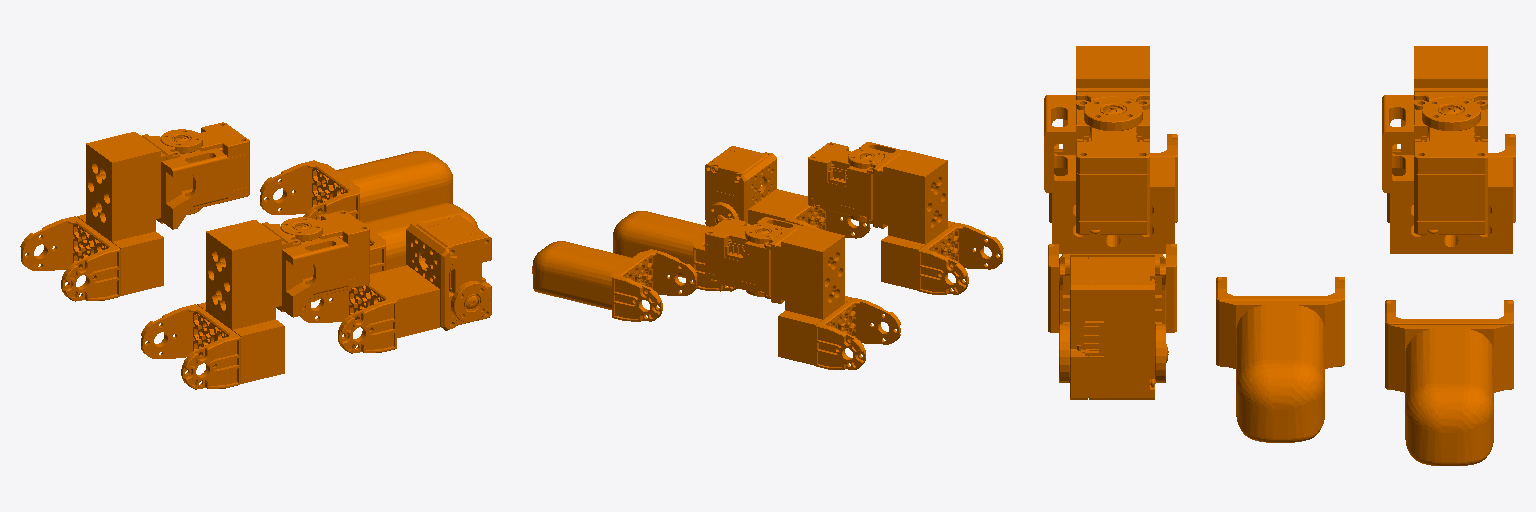
The robot description file, URDF, robot "onshape":
<robot name="onshape">
  <link name="palm_lower">
    <inertial>
      <origin xyz="0.0 0.0 0.0" rpy="0.0 -0.0 0.0"/>
      <mass value="0.237"/>
      <inertia ixx="0.000354094" ixy="-1.193e-06" ixz="-2.445e-06" iyy="0.000260915" iyz="-2.905e-06" izz="0.000529257"/>
    </inertial>
    <visual>
      <geometry>
        <mesh filename="../assets/leap/leap_hand/palm_lower.stl"/>
      </geometry>
      <origin xyz="-0.020095249652862544 0.025757756134899473 -0.034722403578460216" rpy="0.0 -0.0 0.0"/>
      <material name="palm_lower_material">
        <color rgba="0.6039215686274509 0.14901960784313725 0.14901960784313725 1.0"/>
      </material>
    </visual>
    <collision>
      <geometry>
        <mesh filename="../assets/leap/leap_hand/palm_lower.stl"/>
      </geometry>
      <origin xyz="-0.020095249652862544 0.025757756134899473 -0.034722403578460216" rpy="0.0 -0.0 0.0"/>
    </collision>
  </link>
  <link name="mcp_joint_long">
    <inertial>
      <origin xyz="0.0 0.0 0.0" rpy="0.0 -0.0 0.0"/>
      <mass value="0.044"/>
      <inertia ixx="1.1499e-05" ixy="3.049e-06" ixz="1.21e-07" iyy="7.796e-06" iyz="1.12e-07" izz="1.4759e-05"/>
    </inertial>
    <visual>
      <geometry>
        <mesh filename="custom_models/mcp_joint_long.stl"/>
      </geometry>
      <origin xyz="0.008406902261174496 0.0077662438597169954 0.014657354985032912" rpy="1.6375789613221e-15 -1.021047330249102e-30 1.7177968783327987e-31"/>
      <material name="mcp_joint_material">
        <color rgba="0.878 0.467 0.0 1.0"/>
      </material>
    </visual>
    <collision>
      <geometry>
        <mesh filename="custom_models/mcp_joint_long.stl"/>
      </geometry>
      <origin xyz="0.008406902261174496 0.0077662438597169954 0.014657354985032912" rpy="1.6375789613221e-15 -1.021047330249102e-30 1.7177968783327987e-31"/>
    </collision>
  </link>
  <link name="pip">
    <inertial>
      <origin xyz="0.0 0.0 0.0" rpy="0.0 -0.0 0.0"/>
      <mass value="0.032"/>
      <inertia ixx="4.798e-06" ixy="1.2e-08" ixz="4e-09" iyy="2.862e-06" iyz="1.1e-08" izz="4.234e-06"/>
    </inertial>
    <visual>
      <geometry>
        <mesh filename="../assets/leap/leap_hand/pip.stl"/>
      </geometry>
      <origin xyz="0.009643363092271328 0.0002999999999999895 0.0007840340104173765" rpy="-1.5707963267948966 -1.5707963267948963 0.0"/>
      <material name="pip_material">
        <color rgba="0.7490196078431373 0.7490196078431373 0.7490196078431373 1.0"/>
      </material>
    </visual>
    <collision>
      <geometry>
        <mesh filename="../assets/leap/leap_hand/pip.stl"/>
      </geometry>
      <origin xyz="0.009643363092271328 0.0002999999999999895 0.0007840340104173765" rpy="-1.5707963267948966 -1.5707963267948963 0.0"/>
    </collision>
  </link>
  <link name="dip">
    <inertial>
      <origin xyz="0.0 0.0 0.0" rpy="0.0 -0.0 0.0"/>
      <mass value="0.037"/>
      <inertia ixx="5.542e-06" ixy="-6.07e-07" ixz="-1.7e-08" iyy="5.727e-06" iyz="-2.3e-08" izz="6.682e-06"/>
    </inertial>
    <visual>
      <geometry>
        <mesh filename="../assets/leap/leap_hand/dip.stl"/>
      </geometry>
      <origin xyz="0.021133352895225003 -0.00843211914670488 0.00978508816209524" rpy="-3.141592653589793 4.507511124216441e-32 4.439548105392361e-32"/>
      <material name="dip_material">
        <color rgba="0.8666666666666667 0.8666666666666667 0.050980392156862744 1.0"/>
      </material>
    </visual>
    <collision>
      <geometry>
        <mesh filename="../assets/leap/leap_hand/dip.stl"/>
      </geometry>
      <origin xyz="0.021133352895225003 -0.00843211914670488 0.00978508816209524" rpy="-3.141592653589793 4.507511124216441e-32 4.439548105392361e-32"/>
    </collision>
  </link>
  <link name="fingertip_long">
    <inertial>
      <origin xyz="0.0 0.0 0.0" rpy="0.0 -0.0 0.0"/>
      <mass value="0.016"/>
      <inertia ixx="3.368e-06" ixy="1.15e-07" ixz="0.0" iyy="1.556e-06" iyz="0.0" izz="2.863e-06"/>
    </inertial>
    <visual>
      <geometry>
        <mesh filename="custom_models/fingertip_long.stl"/>
      </geometry>
      <origin xyz="0.013286424108533503 -0.006114238386541987 0.014499999999999498" rpy="3.141592653589793 1.1993117970061735e-33 4.439548105392361e-32"/>
      <material name="fingertip_material">
        <color rgba="0.878 0.467 0.0 1.0"/>
      </material>
    </visual>
    <collision>
      <geometry>
        <mesh filename="custom_models/fingertip_long.stl"/>
      </geometry>
      <origin xyz="0.013286424108533503 -0.006114238386541987 0.014499999999999498" rpy="3.141592653589793 1.1993117970061735e-33 4.439548105392361e-32"/>
    </collision>
  </link>
  <link name="pip_4">
    <inertial>
      <origin xyz="0.0 0.0 0.0" rpy="0.0 -0.0 0.0"/>
      <mass value="0.032"/>
      <inertia ixx="4.798e-06" ixy="1.2e-08" ixz="4e-09" iyy="2.862e-06" iyz="1.1e-08" izz="4.234e-06"/>
    </inertial>
    <visual>
      <geometry>
        <mesh filename="../assets/leap/leap_hand/pip.stl"/>
      </geometry>
      <origin xyz="-0.005356636907728671 0.0002999999999999999 0.0007840340104173782" rpy="-1.5707963267948966 -1.5707963267948963 0.0"/>
      <material name="pip_material">
        <color rgba="0.7490196078431373 0.7490196078431373 0.7490196078431373 1.0"/>
      </material>
    </visual>
    <collision>
      <geometry>
        <mesh filename="../assets/leap/leap_hand/pip.stl"/>
      </geometry>
      <origin xyz="-0.005356636907728671 0.0002999999999999999 0.0007840340104173782" rpy="-1.5707963267948966 -1.5707963267948963 0.0"/>
    </collision>
  </link>
  <link name="thumb_pip">
    <inertial>
      <origin xyz="0.0 0.0 0.0" rpy="0.0 -0.0 0.0"/>
      <mass value="0.003"/>
      <inertia ixx="5.93e-07" ixy="0.0" ixz="0.0" iyy="5.49e-07" iyz="0.0" izz="2.24e-07"/>
    </inertial>
    <visual>
      <geometry>
        <mesh filename="../assets/leap/leap_hand/thumb_pip.stl"/>
      </geometry>
      <origin xyz="0.011961920770611187 -5.30825383648903e-16 -0.0158526489566642" rpy="1.5707963267948966 1.6050198443300153e-46 -3.9204996250525193e-59"/>
      <material name="thumb_pip_material">
        <color rgba="0.8666666666666667 0.8666666666666667 0.050980392156862744 1.0"/>
      </material>
    </visual>
    <collision>
      <geometry>
        <mesh filename="../assets/leap/leap_hand/thumb_pip.stl"/>
      </geometry>
      <origin xyz="0.011961920770611187 -5.30825383648903e-16 -0.0158526489566642" rpy="1.5707963267948966 1.6050198443300153e-46 -3.9204996250525193e-59"/>
    </collision>
  </link>
  <link name="thumb_dip">
    <inertial>
      <origin xyz="0.0 0.0 0.0" rpy="0.0 -0.0 0.0"/>
      <mass value="0.038"/>
      <inertia ixx="8.474e-06" ixy="2.41e-07" ixz="2.6e-08" iyy="3.841e-06" iyz="2.5e-08" izz="7.679e-06"/>
    </inertial>
    <visual>
      <geometry>
        <mesh filename="../assets/leap/leap_hand/thumb_dip.stl"/>
      </geometry>
      <origin xyz="0.043968715707239175 0.0579529529737092 -0.008628676449369476" rpy="1.94289029309401e-16 3.27515792264422e-15 1.112375852965736e-46"/>
      <material name="thumb_dip_material">
        <color rgba="0.8666666666666667 0.8666666666666667 0.050980392156862744 1.0"/>
      </material>
    </visual>
    <collision>
      <geometry>
        <mesh filename="../assets/leap/leap_hand/thumb_dip.stl"/>
      </geometry>
      <origin xyz="0.043968715707239175 0.0579529529737092 -0.008628676449369476" rpy="1.94289029309401e-16 3.27515792264422e-15 1.112375852965736e-46"/>
    </collision>
  </link>
  <link name="thumb_fingertip">
    <inertial>
      <origin xyz="0.0 0.0 0.0" rpy="0.0 -0.0 0.0"/>
      <mass value="0.049"/>
      <inertia ixx="2.0372e-05" ixy="-4.89e-07" ixz="-3e-08" iyy="4.336e-06" iyz="-9.7e-08" izz="1.9845e-05"/>
    </inertial>
    <visual>
      <geometry>
        <mesh filename="../assets/leap/leap_hand/thumb_fingertip.stl"/>
      </geometry>
      <origin xyz="0.06255953846266739 0.07845968291139699 0.048992911807332215" rpy="4.379057701015637e-47 -3.33066907387547e-16 1.2042408677791935e-46"/>
      <material name="thumb_fingertip_material">
        <color rgba="0.6039215686274509 0.14901960784313725 0.14901960784313725 1.0"/>
      </material>
    </visual>
    <collision>
      <geometry>
        <mesh filename="../assets/leap/leap_hand/thumb_fingertip.stl"/>
      </geometry>
      <origin xyz="0.06255953846266739 0.07845968291139699 0.048992911807332215" rpy="4.379057701015637e-47 -3.33066907387547e-16 1.2042408677791935e-46"/>
    </collision>
  </link>
  <link name="mcp_joint_2">
    <inertial>
      <origin xyz="0.0 0.0 0.0" rpy="0.0 -0.0 0.0"/>
      <mass value="0.044"/>
      <inertia ixx="1.1499e-05" ixy="3.049e-06" ixz="1.21e-07" iyy="7.796e-06" iyz="1.12e-07" izz="1.4759e-05"/>
    </inertial>
    <visual>
      <geometry>
        <mesh filename="../assets/leap/leap_hand/mcp_joint.stl"/>
      </geometry>
      <origin xyz="0.008406902261174496 0.0077662438597169954 0.014657354985032914" rpy="1.6375789613221e-15 -1.0076465469034e-30 2.1209300131419907e-61"/>
      <material name="mcp_joint_material">
        <color rgba="0.8666666666666667 0.8666666666666667 0.050980392156862744 1.0"/>
      </material>
    </visual>
    <collision>
      <geometry>
        <mesh filename="../assets/leap/leap_hand/mcp_joint.stl"/>
      </geometry>
      <origin xyz="0.008406902261174496 0.0077662438597169954 0.014657354985032914" rpy="1.6375789613221e-15 -1.0076465469034e-30 2.1209300131419907e-61"/>
    </collision>
  </link>
  <link name="pip_2">
    <inertial>
      <origin xyz="0.0 0.0 0.0" rpy="0.0 -0.0 0.0"/>
      <mass value="0.032"/>
      <inertia ixx="4.798e-06" ixy="1.2e-08" ixz="4e-09" iyy="2.862e-06" iyz="1.1e-08" izz="4.234e-06"/>
    </inertial>
    <visual>
      <geometry>
        <mesh filename="../assets/leap/leap_hand/pip.stl"/>
      </geometry>
      <origin xyz="0.009643363092271328 0.0002999999999999947 0.0007840340104173765" rpy="-1.5707963267948966 -1.5707963267948963 0.0"/>
      <material name="pip_material">
        <color rgba="0.7490196078431373 0.7490196078431373 0.7490196078431373 1.0"/>
      </material>
    </visual>
    <collision>
      <geometry>
        <mesh filename="../assets/leap/leap_hand/pip.stl"/>
      </geometry>
      <origin xyz="0.009643363092271328 0.0002999999999999947 0.0007840340104173765" rpy="-1.5707963267948966 -1.5707963267948963 0.0"/>
    </collision>
  </link>
  <link name="dip_2">
    <inertial>
      <origin xyz="0.0 0.0 0.0" rpy="0.0 -0.0 0.0"/>
      <mass value="0.037"/>
      <inertia ixx="5.542e-06" ixy="-6.07e-07" ixz="-1.7e-08" iyy="5.727e-06" iyz="-2.3e-08" izz="6.682e-06"/>
    </inertial>
    <visual>
      <geometry>
        <mesh filename="../assets/leap/leap_hand/dip.stl"/>
      </geometry>
      <origin xyz="0.021133352895225003 -0.008432119146704865 0.009785088162095237" rpy="-3.141592653589793 2.1146933785271956e-32 1.4408183216511869e-31"/>
      <material name="dip_material">
        <color rgba="0.8666666666666667 0.8666666666666667 0.050980392156862744 1.0"/>
      </material>
    </visual>
    <collision>
      <geometry>
        <mesh filename="../assets/leap/leap_hand/dip.stl"/>
      </geometry>
      <origin xyz="0.021133352895225003 -0.008432119146704865 0.009785088162095237" rpy="-3.141592653589793 2.1146933785271956e-32 1.4408183216511869e-31"/>
    </collision>
  </link>
  <link name="fingertip_2_long">
    <inertial>
      <origin xyz="0.0 0.0 0.0" rpy="0.0 -0.0 0.0"/>
      <mass value="0.016"/>
      <inertia ixx="3.368e-06" ixy="1.15e-07" ixz="0.0" iyy="1.556e-06" iyz="0.0" izz="2.863e-06"/>
    </inertial>
    <visual>
      <geometry>
        <mesh filename="custom_models/fingertip_long.stl"/>
      </geometry>
      <origin xyz="0.013286424108533496 -0.006114238386542001 0.014499999999999496" rpy="3.141592653589793 -4.317959788283594e-33 1.4408183216511869e-31"/>
      <material name="fingertip_material">
        <color rgba="0.878 0.467 0.0 1.0"/>
      </material>
    </visual>
    <collision>
      <geometry>
        <mesh filename="custom_models/fingertip_long.stl"/>
      </geometry>
      <origin xyz="0.013286424108533496 -0.006114238386542001 0.014499999999999496" rpy="3.141592653589793 -4.317959788283594e-33 1.4408183216511869e-31"/>
    </collision>
  </link>
  <link name="mcp_joint_3_long">
    <inertial>
      <origin xyz="0.0 0.0 0.0" rpy="0.0 -0.0 0.0"/>
      <mass value="0.044"/>
      <inertia ixx="1.1499e-05" ixy="3.049e-06" ixz="1.21e-07" iyy="7.796e-06" iyz="1.12e-07" izz="1.4759e-05"/>
    </inertial>
    <visual>
      <geometry>
        <mesh filename="custom_models/mcp_joint_long.stl"/>
      </geometry>
      <origin xyz="0.0084069022611745 0.007766243859716996 0.014657354985032914" rpy="1.6375789613221e-15 -1.0059504988632627e-30 5.729641584552035e-32"/>
      <material name="mcp_joint_material">
        <color rgba="0.878 0.467 0.0 1.0"/>
      </material>
    </visual>
    <collision>
      <geometry>
        <mesh filename="custom_models/mcp_joint_long.stl"/>
      </geometry>
      <origin xyz="0.0084069022611745 0.007766243859716996 0.014657354985032914" rpy="1.6375789613221e-15 -1.0059504988632627e-30 5.729641584552035e-32"/>
    </collision>
  </link>
  <link name="pip_3">
    <inertial>
      <origin xyz="0.0 0.0 0.0" rpy="0.0 -0.0 0.0"/>
      <mass value="0.032"/>
      <inertia ixx="4.798e-06" ixy="1.2e-08" ixz="4e-09" iyy="2.862e-06" iyz="1.1e-08" izz="4.234e-06"/>
    </inertial>
    <visual>
      <geometry>
        <mesh filename="../assets/leap/leap_hand/pip.stl"/>
      </geometry>
      <origin xyz="0.009643363092271331 0.00029999999999998084 0.0007840340104173765" rpy="-1.5707963267948966 -1.5707963267948963 0.0"/>
      <material name="pip_material">
        <color rgba="0.7490196078431373 0.7490196078431373 0.7490196078431373 1.0"/>
      </material>
    </visual>
    <collision>
      <geometry>
        <mesh filename="../assets/leap/leap_hand/pip.stl"/>
      </geometry>
      <origin xyz="0.009643363092271331 0.00029999999999998084 0.0007840340104173765" rpy="-1.5707963267948966 -1.5707963267948963 0.0"/>
    </collision>
  </link>
  <link name="dip_3_long">
    <inertial>
      <origin xyz="0.0 0.0 0.0" rpy="0.0 -0.0 0.0"/>
      <mass value="0.037"/>
      <inertia ixx="5.542e-06" ixy="-6.07e-07" ixz="-1.7e-08" iyy="5.727e-06" iyz="-2.3e-08" izz="6.682e-06"/>
    </inertial>
    <visual>
      <geometry>
        <mesh filename="custom_models/dip_long.stl"/>
      </geometry>
      <origin xyz="0.021133352895225006 -0.008432119146704865 0.009785088162095237" rpy="-3.141592653589793 -1.4095651113919093e-33 1.5565411607615035e-32"/>
      <material name="dip_material">
        <color rgba="0.878 0.467 0.0 1.0"/>
      </material>
    </visual>
    <collision>
      <geometry>
        <mesh filename="custom_models/dip_long.stl"/>
      </geometry>
      <origin xyz="0.021133352895225006 -0.008432119146704865 0.009785088162095237" rpy="-3.141592653589793 -1.4095651113919093e-33 1.5565411607615035e-32"/>
    </collision>
  </link>
  <link name="fingertip_3">
    <inertial>
      <origin xyz="0.0 0.0 0.0" rpy="0.0 -0.0 0.0"/>
      <mass value="0.016"/>
      <inertia ixx="3.368e-06" ixy="1.15e-07" ixz="0.0" iyy="1.556e-06" iyz="0.0" izz="2.863e-06"/>
    </inertial>
    <visual>
      <geometry>
        <mesh filename="../assets/leap/leap_hand/fingertip.stl"/>
      </geometry>
      <origin xyz="0.013286424108533501 -0.006114238386541987 0.0144999999999995" rpy="3.141592653589793 8.61707169505754e-33 1.5565411607615035e-32"/>
      <material name="fingertip_material">
        <color rgba="0.8666666666666667 0.8666666666666667 0.050980392156862744 1.0"/>
      </material>
    </visual>
    <collision>
      <geometry>
        <mesh filename="../assets/leap/leap_hand/fingertip.stl"/>
      </geometry>
      <origin xyz="0.013286424108533501 -0.006114238386541987 0.0144999999999995" rpy="3.141592653589793 8.61707169505754e-33 1.5565411607615035e-32"/>
    </collision>
  </link>
  <joint name="1" type="revolute">
    <parent link="palm_lower"/>
    <child link="mcp_joint_long"/>
    <origin xyz="-0.007095249652862546 0.023057756134899472 -0.01872240357846022" rpy="1.570796326794895 1.5707963267948946 0.0"/>
    <axis xyz="0.0 0.0 -1.0"/>
    <limit effort="0.95" velocity="8.48" lower="-0.314" upper="2.23"/>
  </joint>
  <joint name="0" type="revolute">
    <parent link="mcp_joint_long"/>
    <child link="pip"/>
    <origin xyz="-0.012200000000000007713 0.053099999999999994982 0.014500000000000000736" rpy="-1.5707963267948966 -1.0065212660796337e-15 1.5707963267948943"/>
    <axis xyz="0.0 0.0 -1.0"/>
    <limit effort="0.95" velocity="8.48" lower="-1.047" upper="1.047"/>
  </joint>
  <joint name="2" type="revolute">
    <parent link="pip"/>
    <child link="dip"/>
    <origin xyz="0.014999999999999968 0.014299999999999905 -0.012999999999999824" rpy="1.570796326794896 -1.5707963267948963 0.0"/>
    <axis xyz="0.0 0.0 -1.0"/>
    <limit effort="0.95" velocity="8.48" lower="-0.506" upper="1.885"/>
  </joint>
  <joint name="3" type="revolute">
    <parent link="dip"/>
    <child link="fingertip_long"/>
    <origin xyz="-4.088058249557269e-09 -0.03610000421036737 0.0002000000000000786" rpy="4.5935029425113685e-17 -2.8730071914463795e-16 4.439548105392361e-32"/>
    <axis xyz="0.0 0.0 -1.0"/>
    <limit effort="0.95" velocity="8.48" lower="-0.366" upper="2.042"/>
  </joint>
  <joint name="12" type="revolute">
    <parent link="palm_lower"/>
    <child link="pip_4"/>
    <origin xyz="-0.06939524965286253 -0.0012422438651005258 -0.021622403578460216" rpy="-8.238176646493942e-17 1.5707963267948957 0.0"/>
    <axis xyz="0.0 0.0 -1.0"/>
    <limit effort="0.95" velocity="8.48" lower="-0.349" upper="2.094"/>
  </joint>
  <joint name="13" type="revolute">
    <parent link="pip_4"/>
    <child link="thumb_pip"/>
    <origin xyz="-2.7755575615628914e-17 0.014300000000000005 -0.013000000000000012" rpy="1.570796326794896 -1.5707963267948963 0.0"/>
    <axis xyz="0.0 0.0 -1.0"/>
    <limit effort="0.95" velocity="8.48" lower="-0.47" upper="2.443"/>
  </joint>
  <joint name="14" type="revolute">
    <parent link="thumb_pip"/>
    <child link="thumb_dip"/>
    <origin xyz="0.0 0.014499999999999966 -0.017000000000000053" rpy="-1.5707963267948966 1.6050198443300131e-46 -1.9721522630516625e-31"/>
    <axis xyz="0.0 0.0 -1.0"/>
    <limit effort="0.95" velocity="8.48" lower="-1.2" upper="1.9"/>
  </joint>
  <joint name="15" type="revolute">
    <parent link="thumb_dip"/>
    <child link="thumb_fingertip"/>
    <origin xyz="-1.249000902703301e-16 0.046599999999999864 0.0001999999999999771" rpy="1.506395849149178e-44 5.423418723393526e-31 3.141592653589793"/>
    <axis xyz="0.0 0.0 -1.0"/>
    <limit effort="0.95" velocity="8.48" lower="-1.34" upper="1.88"/>
  </joint>
  <joint name="5" type="revolute">
    <parent link="palm_lower"/>
    <child link="mcp_joint_2"/>
    <origin xyz="-0.007095249652862546 -0.022392243865100525 -0.01872240357846022" rpy="1.570796326794895 1.5707963267948946 0.0"/>
    <axis xyz="0.0 0.0 -1.0"/>
    <limit effort="0.95" velocity="8.48" lower="-0.314" upper="2.23"/>
  </joint>
  <joint name="4" type="revolute">
    <parent link="mcp_joint_2"/>
    <child link="pip_2"/>
    <origin xyz="-0.012200000000000008 0.038099999999999995 0.0145" rpy="-1.5707963267948966 -1.0065212660796337e-15 1.5707963267948943"/>
    <axis xyz="0.0 0.0 -1.0"/>
    <limit effort="0.95" velocity="8.48" lower="-1.047" upper="1.047"/>
  </joint>
  <joint name="6" type="revolute">
    <parent link="pip_2"/>
    <child link="dip_2"/>
    <origin xyz="0.014999999999999968 0.014299999999999905 -0.012999999999999824" rpy="1.570796326794896 -1.5707963267948963 0.0"/>
    <axis xyz="0.0 0.0 -1.0"/>
    <limit effort="0.95" velocity="8.48" lower="-0.506" upper="1.885"/>
  </joint>
  <joint name="7" type="revolute">
    <parent link="dip_2"/>
    <child link="fingertip_2_long"/>
    <origin xyz="-4.088058249557269e-09 -0.03610000421036737 0.0002000000000000786" rpy="4.5935029425113685e-17 -2.8730071914463795e-16 4.439548105392361e-32"/>
    <axis xyz="0.0 0.0 -1.0"/>
    <limit effort="0.95" velocity="8.48" lower="-0.366" upper="2.042"/>
  </joint>
  <joint name="9" type="revolute">
    <parent link="palm_lower"/>
    <child link="mcp_joint_3_long"/>
    <origin xyz="-0.007095249652862546 -0.06784224386510052 -0.01872240357846022" rpy="1.570796326794895 1.5707963267948946 0.0"/>
    <axis xyz="0.0 0.0 -1.0"/>
    <limit effort="0.95" velocity="8.48" lower="-0.314" upper="2.23"/>
  </joint>
  <joint name="8" type="revolute">
    <parent link="mcp_joint_3_long"/>
    <child link="pip_3"/>
    <origin xyz="-0.012200000000000007713 0.053099999999999994982 0.014500000000000000736" rpy="-1.5707963267948966 -1.0065212660796337e-15 1.5707963267948943"/>
    <axis xyz="0.0 0.0 -1.0"/>
    <limit effort="0.95" velocity="8.48" lower="-1.047" upper="1.047"/>
  </joint>
  <joint name="10" type="revolute">
    <parent link="pip_3"/>
    <child link="dip_3_long"/>
    <origin xyz="0.014999999999999968 0.014299999999999905 -0.012999999999999824" rpy="1.570796326794896 -1.5707963267948963 0.0"/>
    <axis xyz="0.0 0.0 -1.0"/>
    <limit effort="0.95" velocity="8.48" lower="-0.506" upper="1.885"/>
  </joint>
  <joint name="11" type="revolute">
    <parent link="dip_3_long"/>
    <child link="fingertip_3"/>
    <origin xyz="-4.0880582495572692636e-09 -0.051100004210367367397 0.00020000000000007858714" rpy="4.5935029425113685e-17 -2.8730071914463795e-16 4.439548105392361e-32"/>
    <axis xyz="0.0 0.0 -1.0"/>
    <limit effort="0.95" velocity="8.48" lower="-0.366" upper="2.042"/>
  </joint>
</robot>

--- Render facts (derived) ---
3 views of the same robot in one strip: view 1: azimuth 30°, elevation 25°; view 2: azimuth 150°, elevation 25°; view 3: azimuth 270°, elevation 25° (orthographic).
Model onshape with 17 links and 16 joints (16 revolute), rooted at palm_lower, posed every joint at zero.
Links seen in each view (by area): view 1: mcp_joint_3_long, mcp_joint_long, dip_3_long, fingertip_long, fingertip_2_long; view 2: mcp_joint_long, mcp_joint_3_long, fingertip_long, dip_3_long, fingertip_2_long; view 3: mcp_joint_long, mcp_joint_3_long, dip_3_long, fingertip_long, fingertip_2_long.
Boxes of the visible links, <box> form: mcp_joint_3_long: <box>141,210,369,389</box>; mcp_joint_long: <box>20,122,249,301</box>; dip_3_long: <box>299,215,491,353</box>; fingertip_long: <box>260,151,452,222</box>; fingertip_2_long: <box>318,203,478,273</box>; mcp_joint_long: <box>705,217,900,369</box>; mcp_joint_3_long: <box>808,142,1003,294</box>; fingertip_long: <box>532,241,697,321</box>; dip_3_long: <box>705,146,870,238</box>; fingertip_2_long: <box>613,211,750,291</box>; mcp_joint_long: <box>1382,46,1515,253</box>; mcp_joint_3_long: <box>1044,46,1177,253</box>; dip_3_long: <box>1048,244,1176,399</box>; fingertip_long: <box>1385,300,1513,465</box>; fingertip_2_long: <box>1216,277,1344,442</box>.
Size in the robot's own frame: 0.1766 by 0.1267 by 0.0549 metres.
5 mesh visuals loaded from 11 distinct referenced files (3 binary STL); not drawn: 12 (reference not matched to a file when rendering).